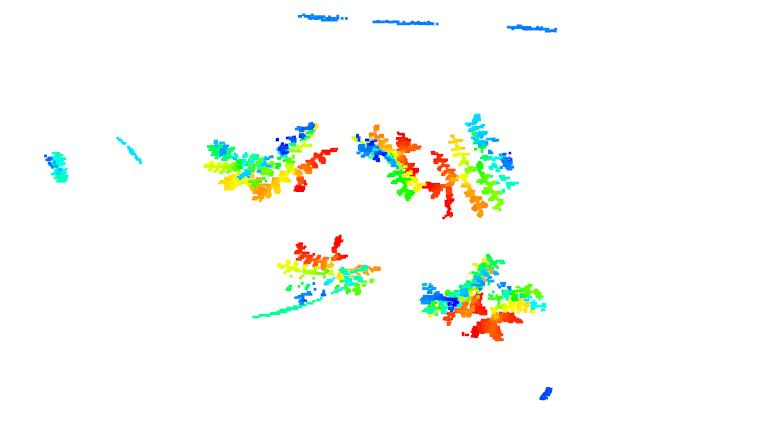chickpea: (207, 119, 339, 203), (421, 116, 525, 218), (277, 234, 381, 305), (417, 253, 507, 326), (355, 120, 421, 202), (469, 281, 549, 344)
